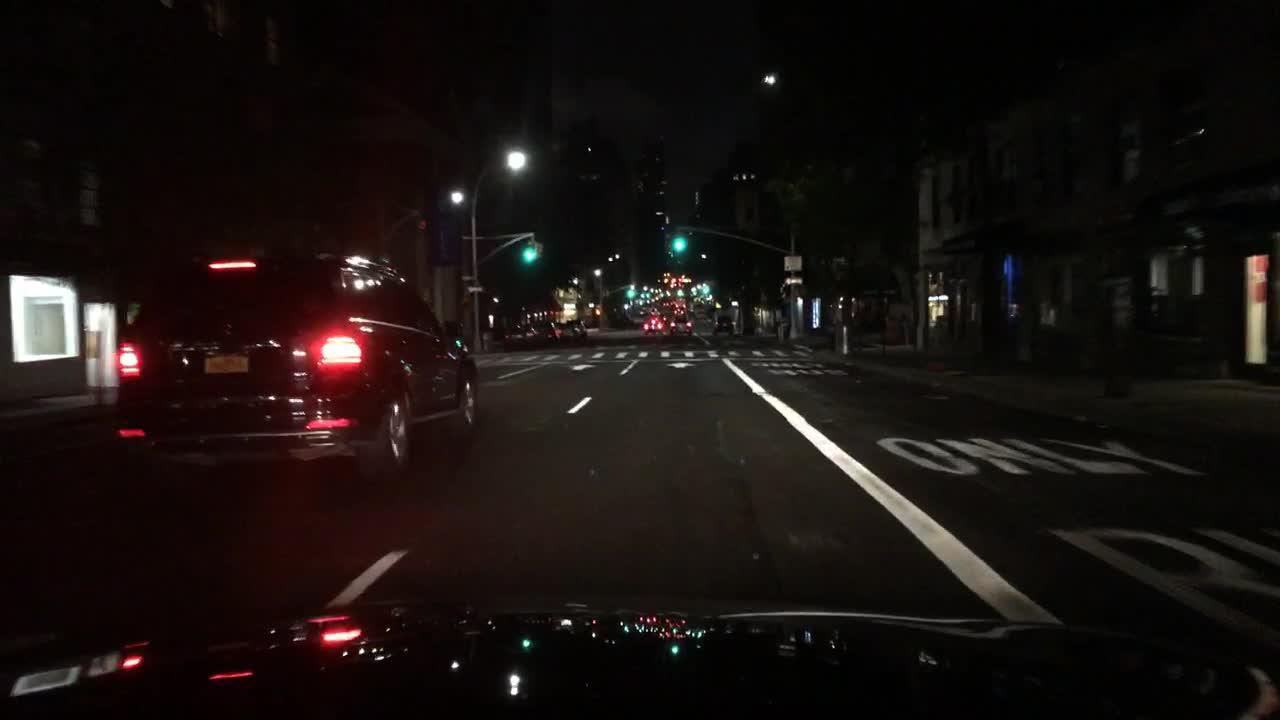car: (113, 248, 480, 481), (503, 324, 537, 350), (533, 318, 558, 346), (711, 312, 734, 335), (668, 315, 692, 337), (554, 322, 576, 345), (565, 318, 588, 339), (643, 316, 663, 335), (658, 312, 670, 325), (648, 306, 660, 316), (674, 298, 686, 308), (674, 300, 685, 310), (661, 298, 672, 308), (638, 296, 650, 305), (673, 308, 686, 316), (652, 294, 662, 302), (639, 308, 647, 316)
traffic light: (673, 233, 685, 250), (525, 239, 534, 259), (664, 233, 673, 252), (535, 241, 543, 259), (626, 289, 634, 297), (702, 287, 709, 293)
traffic sign: (783, 255, 802, 270), (784, 277, 803, 284), (467, 285, 484, 291), (461, 275, 475, 279)
